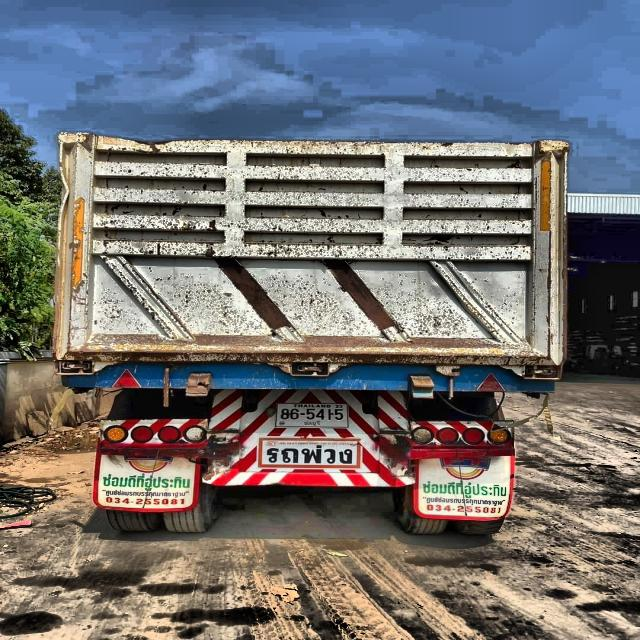trailer: (46, 106, 578, 579)
